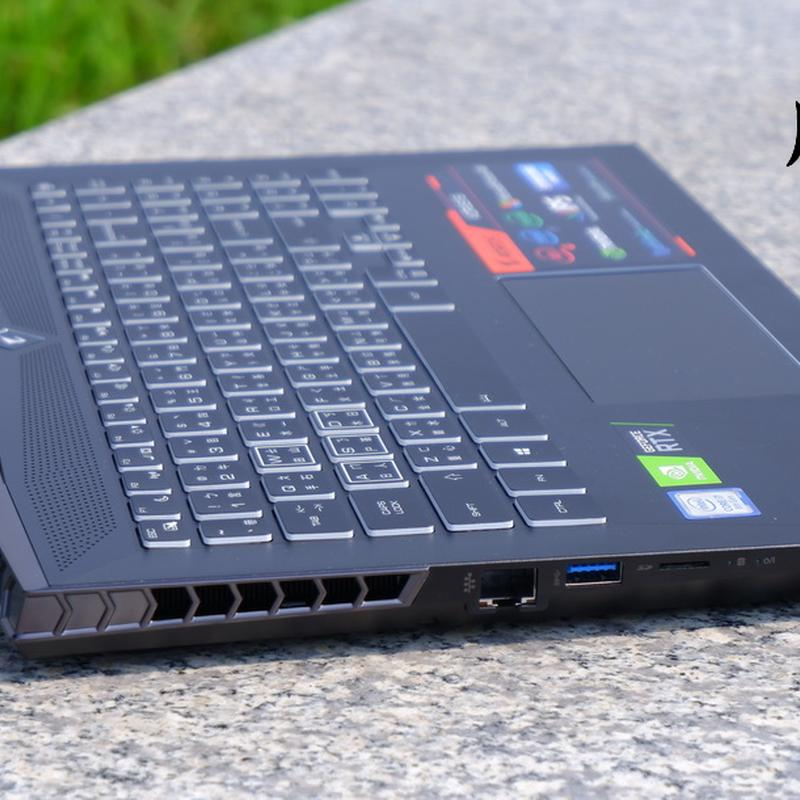ETHERNET: (463, 560, 539, 616)
USB: (561, 556, 628, 592)
